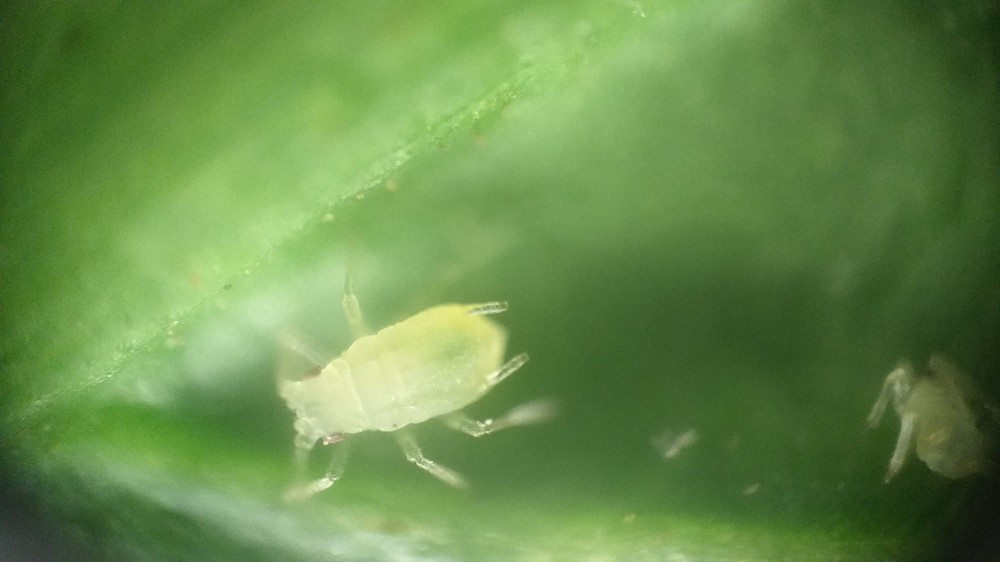Pulgon: (226, 248, 587, 517), (834, 319, 1000, 501)
